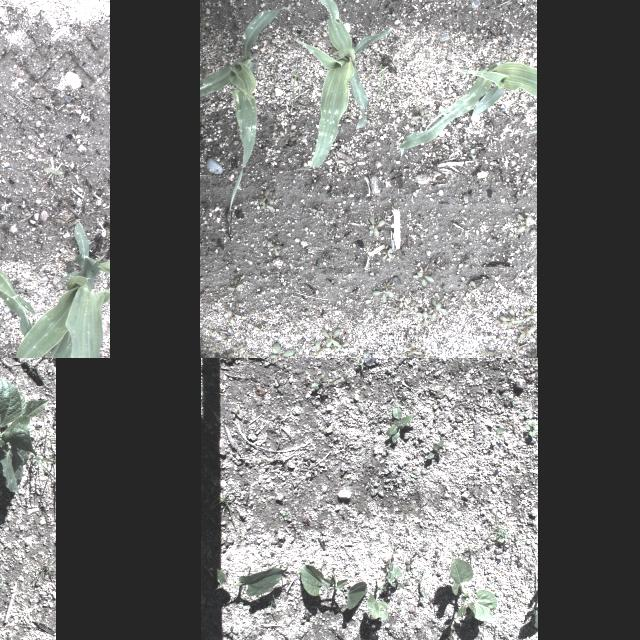crop: (200, 8, 290, 210), (289, 0, 393, 171), (0, 221, 110, 358), (399, 60, 537, 150), (0, 358, 49, 492), (0, 257, 46, 358), (299, 564, 366, 610), (449, 558, 497, 622), (204, 566, 288, 596), (522, 129, 536, 135), (534, 612, 538, 628)
weed: (366, 562, 402, 620), (482, 510, 510, 548), (386, 406, 412, 444), (208, 486, 238, 516), (266, 592, 286, 622), (500, 306, 522, 328), (322, 328, 341, 352), (34, 456, 56, 476), (458, 544, 478, 566), (258, 188, 276, 212), (328, 368, 358, 382), (269, 342, 295, 358), (516, 215, 536, 235), (290, 67, 300, 106), (44, 157, 64, 175), (411, 108, 431, 126), (369, 216, 385, 237), (517, 324, 535, 342), (417, 311, 437, 327), (224, 304, 240, 324), (36, 428, 56, 444), (419, 568, 429, 600), (403, 341, 421, 358), (371, 290, 395, 302), (427, 440, 443, 458), (411, 272, 431, 286), (379, 65, 388, 95), (226, 278, 244, 292), (34, 562, 54, 574), (431, 298, 447, 312), (469, 279, 483, 295), (480, 342, 494, 358), (310, 374, 326, 388), (526, 420, 538, 438), (266, 240, 280, 254), (393, 303, 409, 315), (491, 428, 503, 444), (336, 341, 349, 354), (310, 206, 324, 218), (524, 308, 536, 322), (515, 536, 527, 550), (36, 2, 46, 18), (352, 358, 365, 370), (382, 248, 394, 260), (271, 537, 285, 547), (219, 536, 233, 546), (444, 622, 454, 636), (312, 341, 320, 358), (410, 298, 420, 310), (408, 469, 418, 481), (290, 134, 304, 142), (470, 152, 478, 166), (230, 409, 242, 418), (418, 547, 428, 557), (432, 550, 440, 562), (406, 558, 414, 570), (0, 571, 5, 589), (508, 396, 518, 404), (0, 633, 11, 640), (388, 12, 396, 21), (412, 188, 420, 196), (507, 48, 513, 58), (498, 48, 504, 58), (281, 510, 291, 516), (385, 446, 391, 452), (410, 86, 414, 90), (454, 136, 456, 142)
